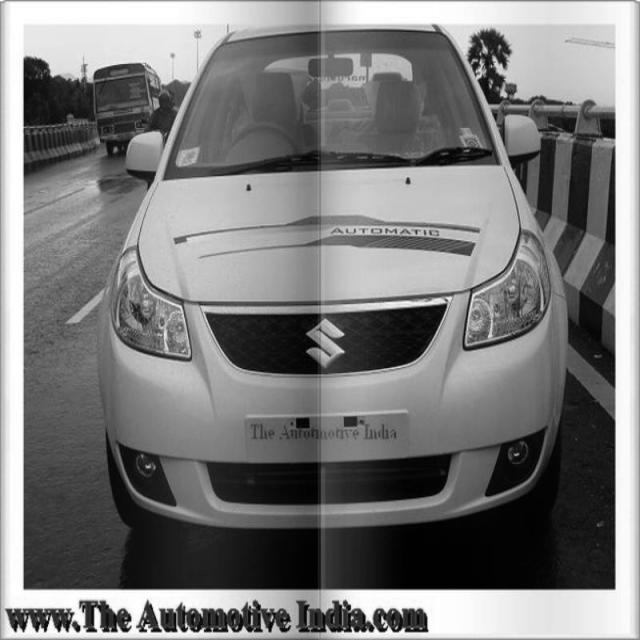car: (96, 20, 569, 532)
